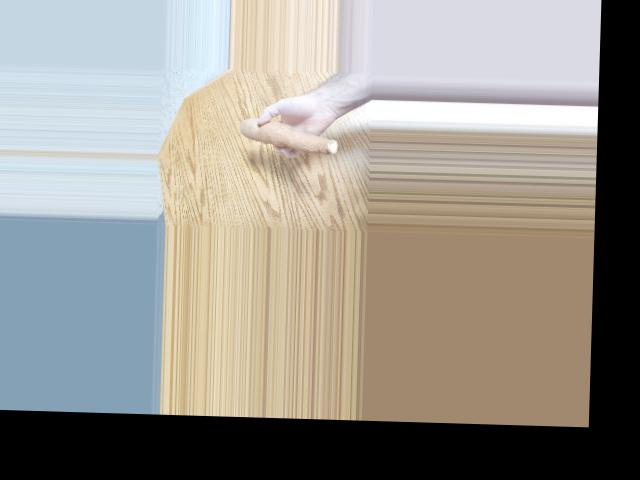sweet_potato: (234, 123, 342, 152)
